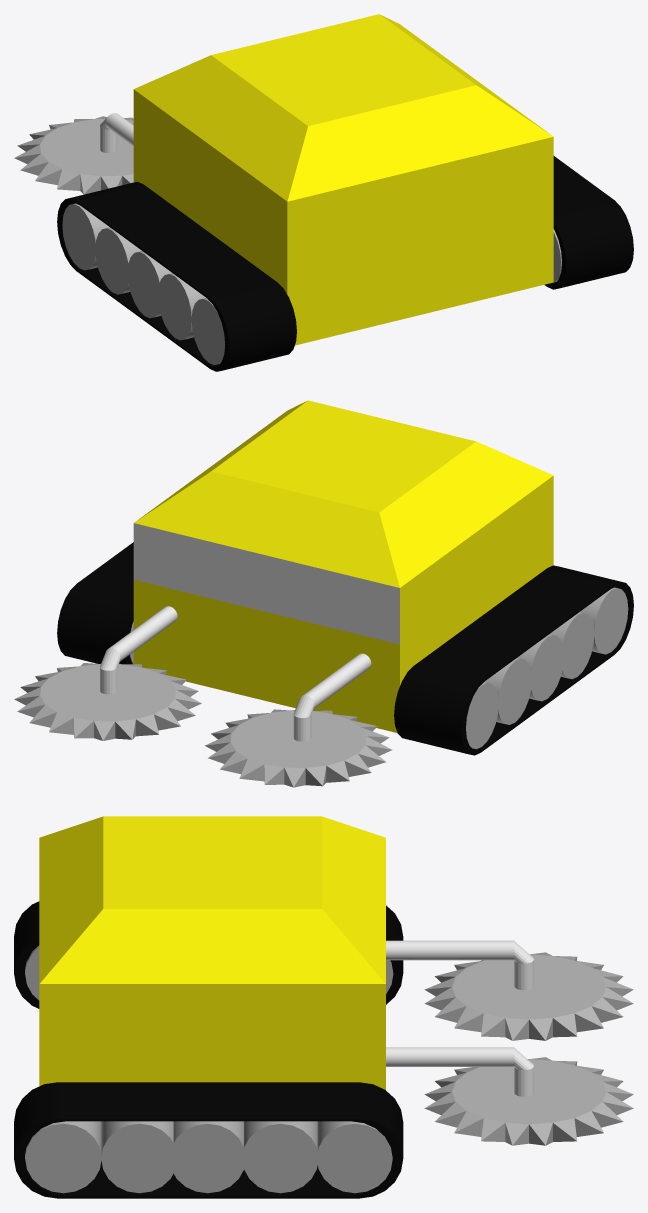
The model's file is tree cutter.fbx.
3 views of the same model, one above another, from view 1: azimuth 30°, elevation 25°; view 2: azimuth 150°, elevation 25°; view 3: azimuth 270°, elevation 25° (orthographic). The views are drawn at different scales.
Visible parts, largest first — view 1: tree_cutter2, left_saw_blade; view 2: tree_cutter2, right_saw_blade, left_saw_blade; view 3: tree_cutter2, left_saw_blade, right_saw_blade.
Part boxes in pixels (x1,y1,x2,y2): tree_cutter2: (57,14,633,371); left_saw_blade: (14,116,133,194); tree_cutter2: (57,400,633,755); right_saw_blade: (14,663,201,740); left_saw_blade: (205,709,392,787); tree_cutter2: (14,816,533,1198); left_saw_blade: (424,952,633,1040); right_saw_blade: (424,1057,633,1145).
Size of the model in its own units: 12.02 by 5.67 by 14.16.
